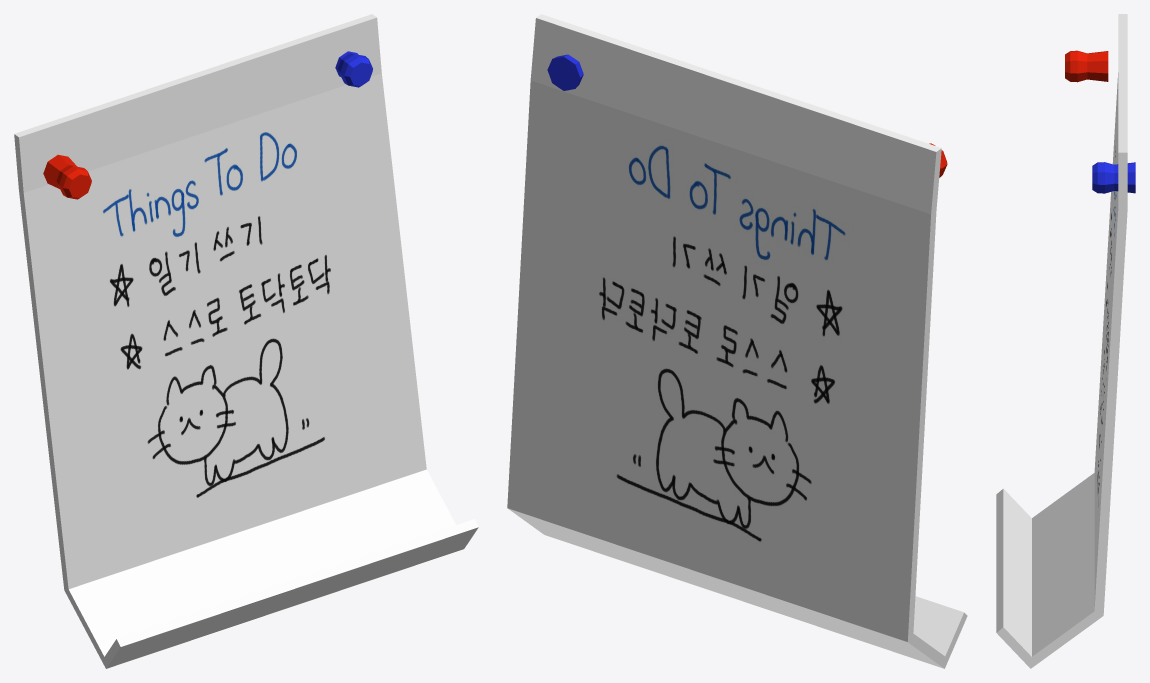
File: memo1.glb
3 views of the same model, side by side, from view 1: azimuth 30°, elevation 25°; view 2: azimuth 150°, elevation 25°; view 3: azimuth 270°, elevation 25° (orthographic). The views are drawn at different scales.
Parts seen in each view (by area): view 1: Plane.011, Circle.001, Circle; view 2: Plane.011, Circle; view 3: Plane.011, Circle.001, Circle.
Boxes of the visible parts, left/top/right/bottom form: Plane.011: left=14, top=14, right=478, bottom=668; Circle.001: left=43, top=154, right=91, bottom=199; Circle: left=335, top=51, right=372, bottom=87; Plane.011: left=507, top=14, right=967, bottom=668; Circle: left=547, top=54, right=583, bottom=90; Plane.011: left=996, top=14, right=1127, bottom=668; Circle.001: left=1065, top=50, right=1108, bottom=82; Circle: left=1092, top=162, right=1135, bottom=193.
Bounding box in the file's own units: 0.6714 × 0.8678 × 0.2072.
3 materials, 1 textured.
